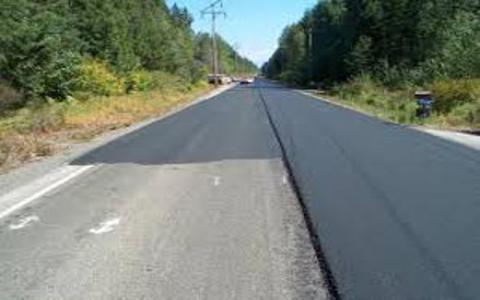Proper road: (293, 113, 413, 242)
